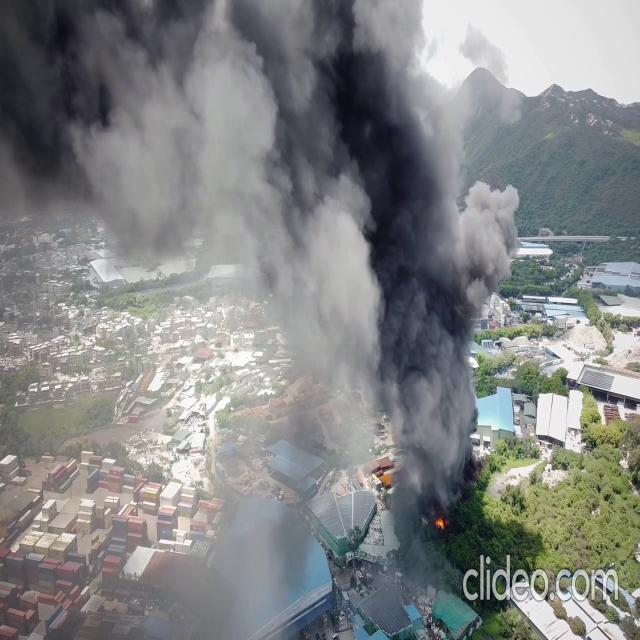Fire: (433, 508, 447, 536)
Smoke: (258, 1, 526, 639), (0, 0, 346, 322)
